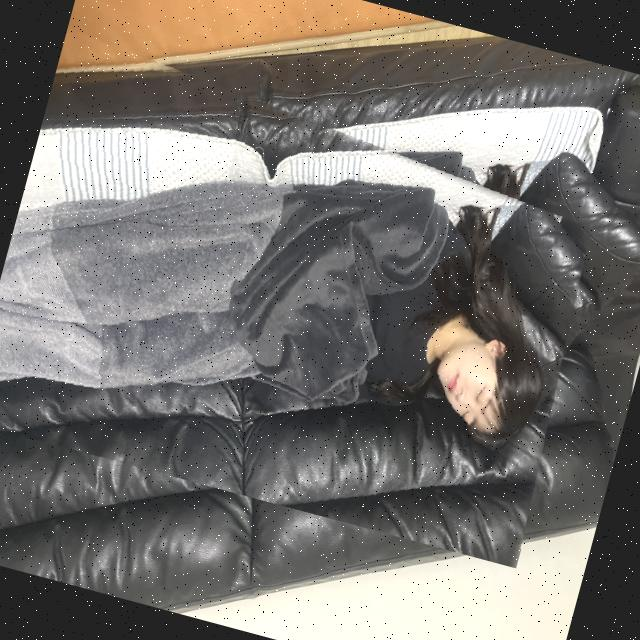people: (0, 25, 624, 568)
